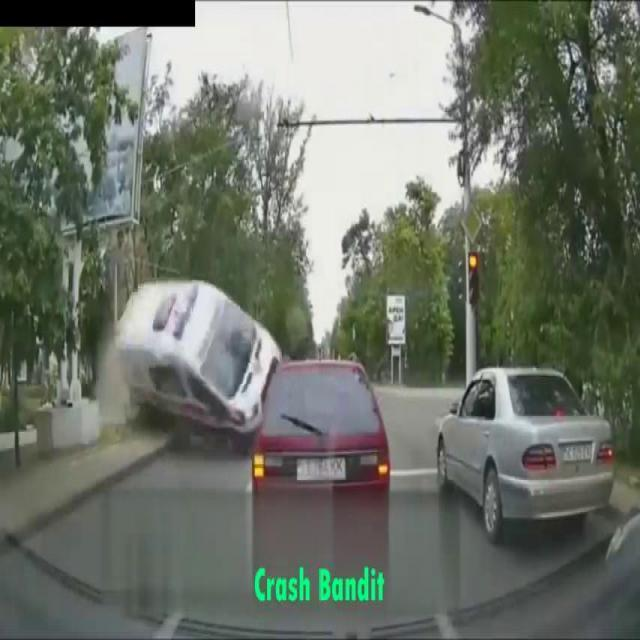severe: (114, 269, 285, 447)
